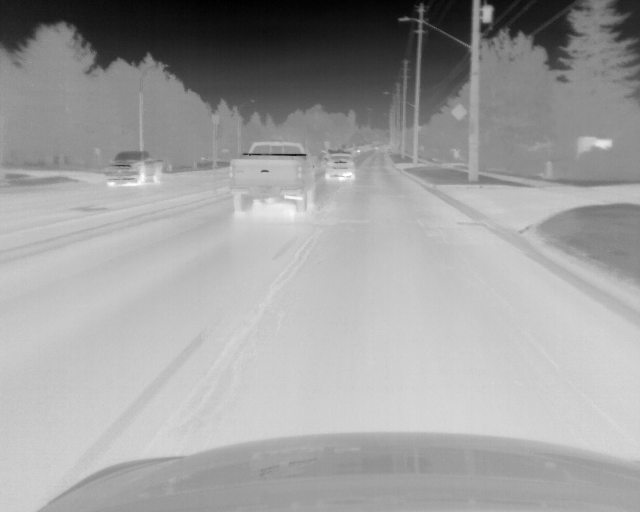car: (228, 141, 316, 215), (104, 151, 162, 185), (323, 152, 355, 183)
